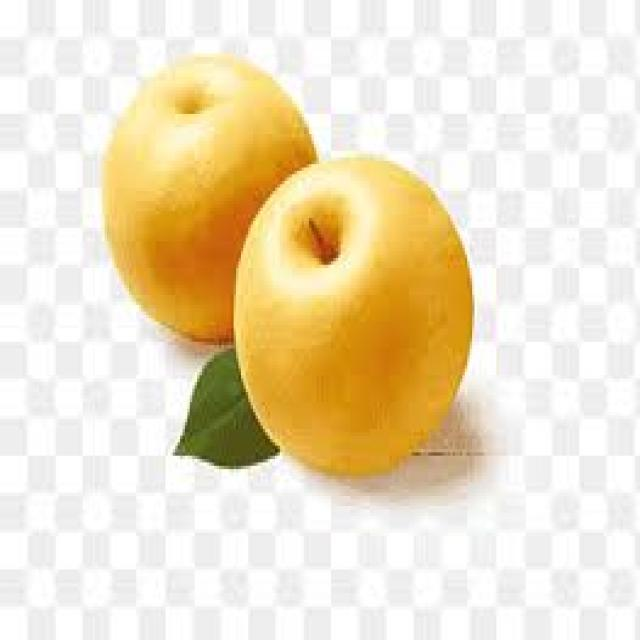Pear: (234, 157, 475, 476)
